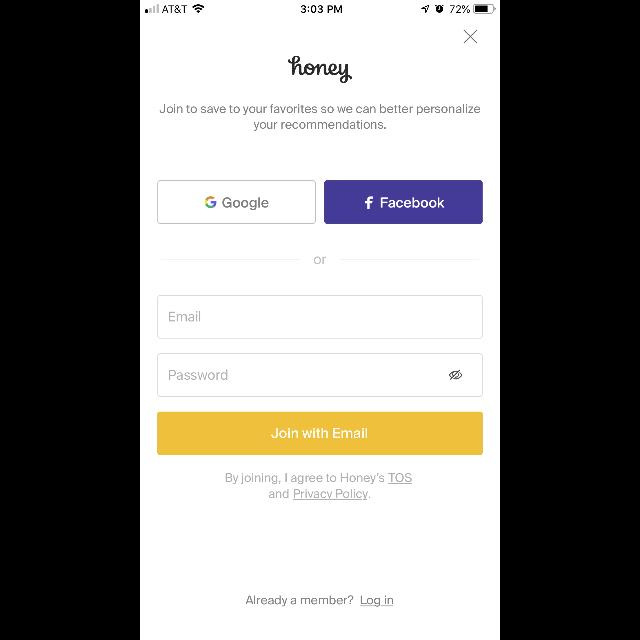icon: (464, 30, 478, 44), (449, 370, 463, 380)
image: (288, 56, 352, 84)
input: (158, 354, 482, 396), (158, 296, 482, 338)
text: (160, 105, 480, 132), (226, 474, 412, 501), (246, 596, 394, 606), (170, 370, 228, 380), (170, 312, 200, 322), (314, 257, 326, 265)
textbutton: (158, 412, 482, 454), (158, 180, 316, 223), (324, 180, 482, 223)
uppertaskbar: (140, 0, 500, 14)
